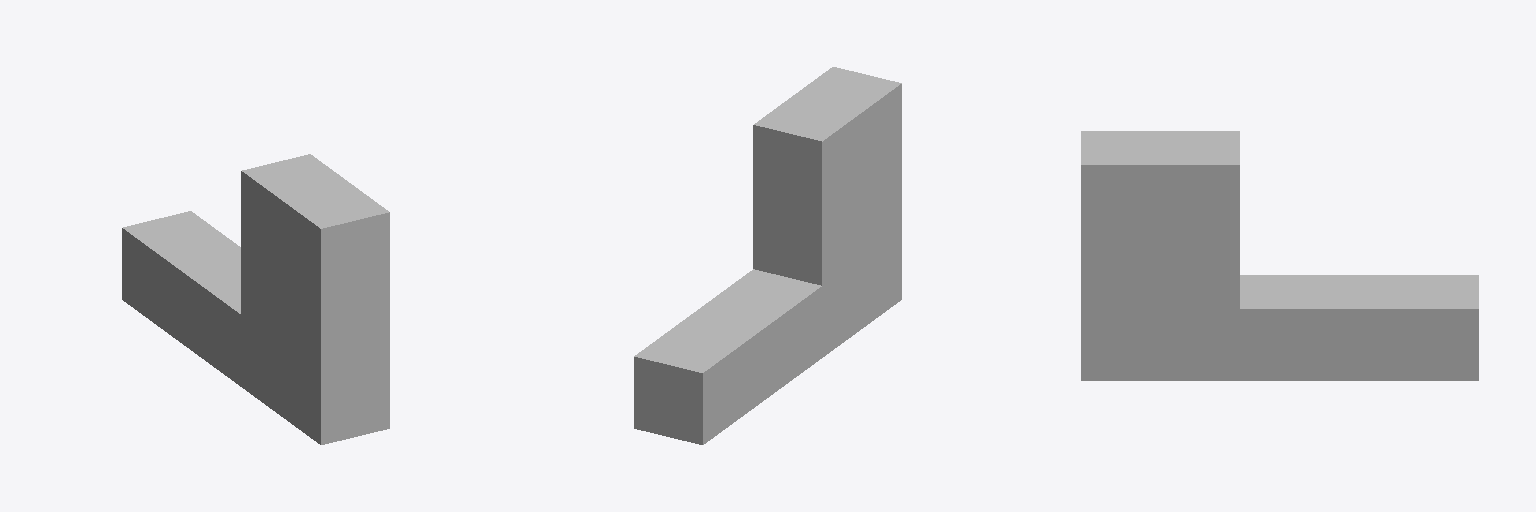
File: topor a.obj
3 views of the same model, side by side, from view 1: azimuth 30°, elevation 25°; view 2: azimuth 150°, elevation 25°; view 3: azimuth 270°, elevation 25° (orthographic).
Bounding box in the file's own units: 1 × 3 × 5.